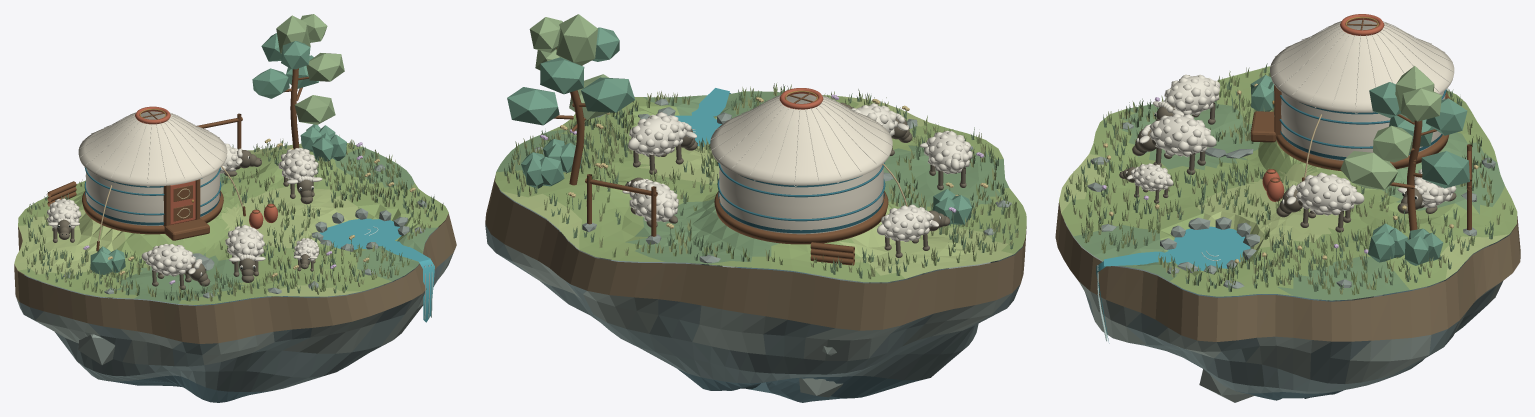
File: steppe-v6.glb
The picture shows the model from 3 angles, left to right: view 1: azimuth 30°, elevation 25°; view 2: azimuth 150°, elevation 25°; view 3: azimuth 270°, elevation 25°; orthographic projection. The views are drawn at different scales.
Parts seen in each view (by area): view 1: Steppe_Steppe_turf_earth, Steppe_Steppe_meadow, ger_Ger_ivory_felt, Steppe_Steppe_sage_grass, Steppe_Steppe_larch_foliage, Steppe_Steppe_sunlit_grass, Steppe_Steppe_meadow.001, Steppe_Steppe_larch_tips, Steppe_Steppe_spring_water, Steppe_Steppe_weathered_rock, ger_Ger_timber, Steppe_Ger_timber (+10 smaller); view 2: Steppe_Steppe_turf_earth, Steppe_Steppe_meadow, ger_Ger_ivory_felt, Steppe_Steppe_larch_foliage, Steppe_Steppe_sage_grass, Steppe_Steppe_sunlit_grass, Steppe_Steppe_meadow.001, Steppe_Steppe_larch_tips, Steppe_Ger_timber, ger_Ger_timber, Steppe_Steppe_weathered_rock, ger_Ger_blue_woven_trim (+8 smaller); view 3: Steppe_Steppe_meadow, Steppe_Steppe_turf_earth, ger_Ger_ivory_felt, Steppe_Steppe_larch_foliage, Steppe_Steppe_sage_grass, Steppe_Steppe_sunlit_grass, Steppe_Steppe_meadow.001, Steppe_Steppe_larch_tips, Steppe_Steppe_weathered_rock, Steppe_Steppe_spring_water, ger_Ger_timber, sheep_1_Sheep_wool (+10 smaller).
Part boxes in pixels (box(x1,y1,x2,y2)): Steppe_Steppe_turf_earth: box(14, 213, 456, 402); Steppe_Steppe_meadow: box(14, 143, 448, 304); ger_Ger_ivory_felt: box(78, 111, 227, 225); Steppe_Steppe_sage_grass: box(23, 140, 436, 300); Steppe_Steppe_larch_foliage: box(90, 33, 346, 274); Steppe_Steppe_sunlit_grass: box(26, 135, 436, 301); Steppe_Steppe_meadow.001: box(22, 143, 443, 301); Steppe_Steppe_larch_tips: box(276, 14, 344, 124); Steppe_Steppe_spring_water: box(320, 218, 434, 322); Steppe_Steppe_weathered_rock: box(63, 164, 427, 364); ger_Ger_timber: box(82, 110, 245, 251); Steppe_Ger_timber: box(47, 68, 308, 213); Steppe_Steppe_turf_earth: box(485, 175, 1026, 402); Steppe_Steppe_meadow: box(495, 91, 1026, 282); ger_Ger_ivory_felt: box(710, 93, 892, 234); Steppe_Steppe_larch_foliage: box(507, 27, 971, 225); Steppe_Steppe_sage_grass: box(504, 84, 1018, 278); Steppe_Steppe_sunlit_grass: box(507, 83, 1018, 276); Steppe_Steppe_meadow.001: box(512, 83, 1019, 279); Steppe_Steppe_larch_tips: box(529, 14, 609, 119); Steppe_Ger_timber: box(554, 48, 854, 265); ger_Ger_timber: box(714, 92, 888, 244); Steppe_Steppe_weathered_rock: box(534, 98, 1011, 397); ger_Ger_blue_woven_trim: box(717, 162, 885, 233); Steppe_Steppe_meadow: box(1059, 66, 1517, 300); Steppe_Steppe_turf_earth: box(1055, 202, 1520, 400); ger_Ger_ivory_felt: box(1270, 20, 1454, 160); Steppe_Steppe_larch_foliage: box(1250, 75, 1469, 265); Steppe_Steppe_sage_grass: box(1065, 63, 1494, 291); Steppe_Steppe_sunlit_grass: box(1067, 68, 1505, 294); Steppe_Steppe_meadow.001: box(1064, 67, 1513, 295); Steppe_Steppe_larch_tips: box(1340, 66, 1441, 189); Steppe_Steppe_weathered_rock: box(1087, 122, 1495, 402); Steppe_Steppe_spring_water: box(1096, 226, 1250, 343); ger_Ger_timber: box(1250, 18, 1448, 181); sheep_1_Sheep_wool: box(1149, 113, 1216, 157).
Size of the model in its own units: 7.38 by 5.51 by 5.95.
